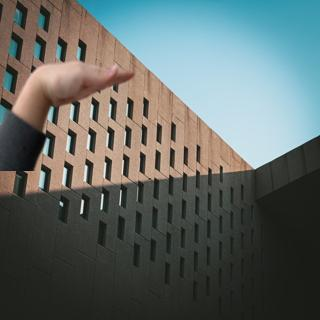Wait: (21, 52, 137, 119)
